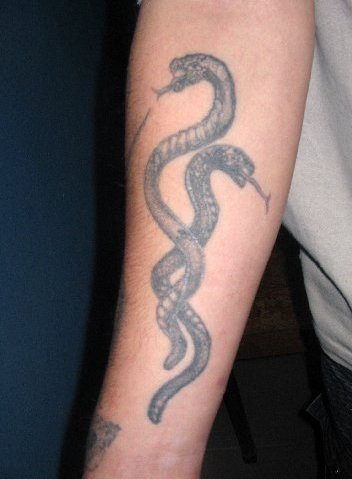tatu7_zmeya: (148, 38, 269, 437)
